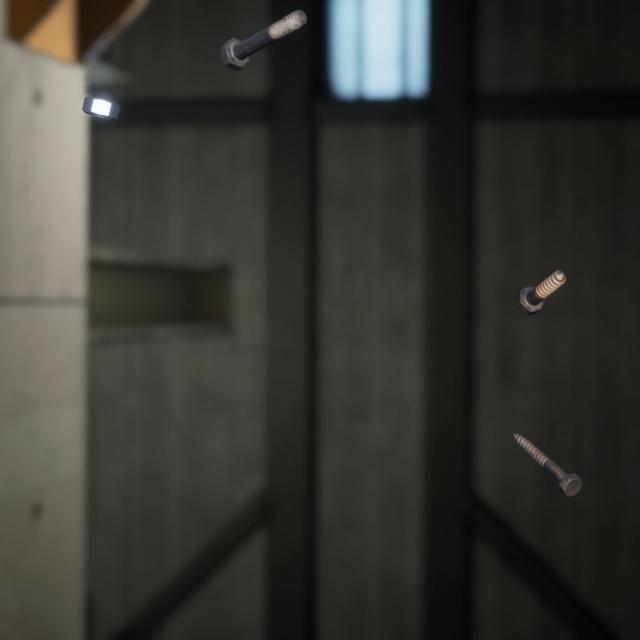bolt: (215, 0, 311, 65), (509, 408, 587, 480), (511, 248, 570, 303)
nut: (77, 80, 124, 112)
